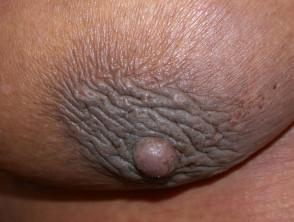Eczema: (221, 102, 252, 134), (99, 120, 127, 141), (139, 92, 164, 115), (188, 126, 213, 145), (108, 97, 134, 115), (102, 153, 127, 170), (174, 96, 194, 117), (264, 81, 284, 100), (146, 123, 174, 136), (198, 154, 231, 164), (161, 156, 173, 168), (134, 154, 146, 163), (181, 173, 193, 181)
